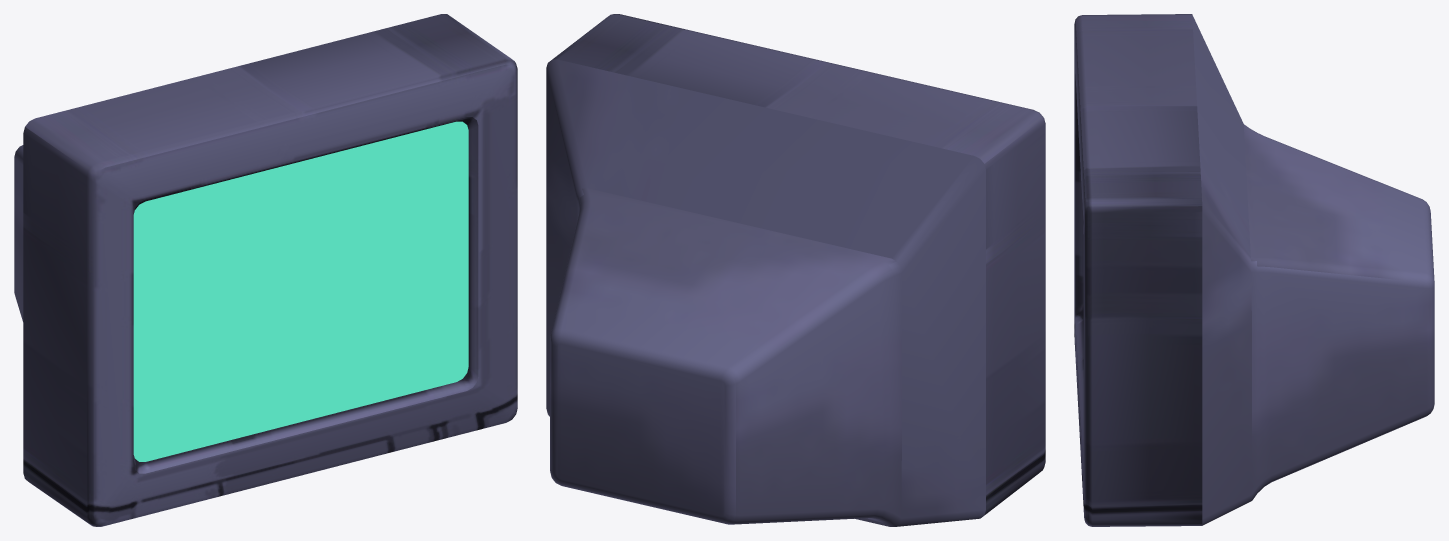
Rendered from computer.glb.
3 renders of one model, left to right at view 1: azimuth 30°, elevation 25°; view 2: azimuth 150°, elevation 25°; view 3: azimuth 270°, elevation 25°, orthographic. The views are drawn at different scales.
Visible parts, largest first — view 1: Screen B.001_103.001; view 2: Screen B.001_103.001; view 3: Screen B.001_103.001.
Boxes of the visible parts, x1,y1,x2,y2 form: Screen B.001_103.001: (14, 14, 517, 526); Screen B.001_103.001: (546, 14, 1045, 526); Screen B.001_103.001: (1074, 14, 1434, 526).
Bounding box in the file's own units: 1.55 × 1.23 × 1.22.
2 materials, 1 textured.
